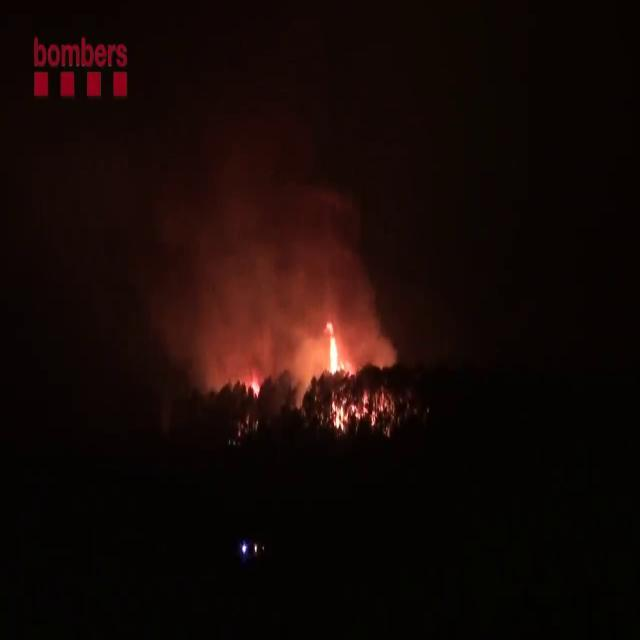Fire: (318, 316, 354, 394)
Smoke: (124, 39, 394, 385)
